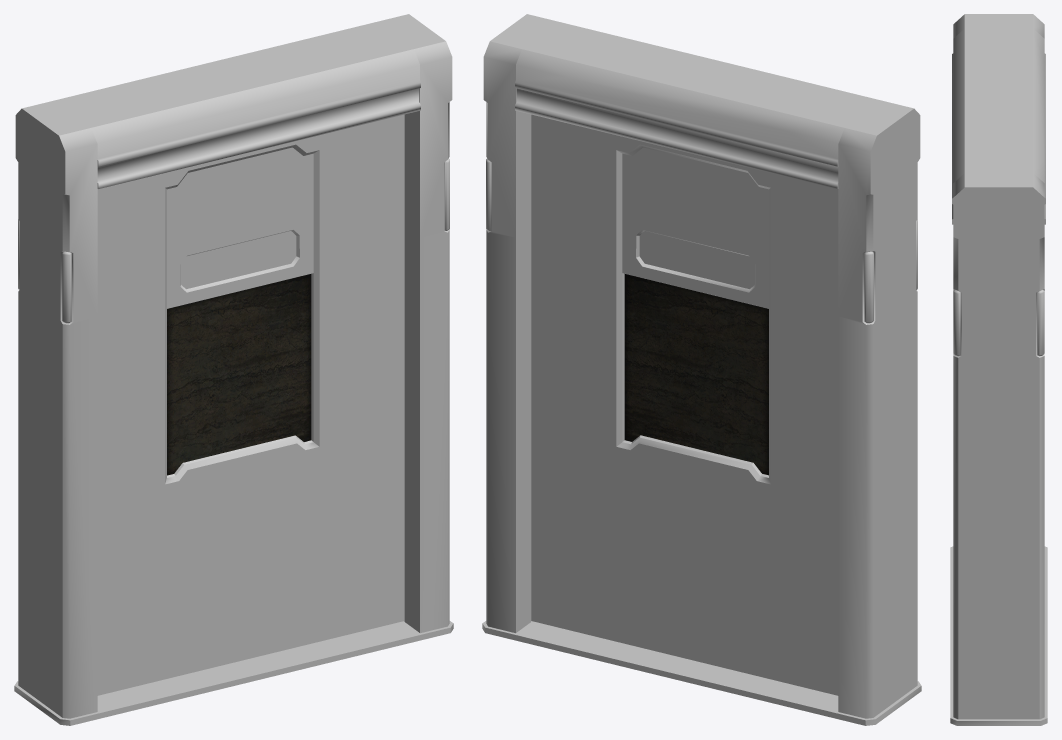
The model's file is slidedoor_theta_small_windowed_rusty.dae.
3 views of the same model, side by side, from view 1: azimuth 30°, elevation 25°; view 2: azimuth 150°, elevation 25°; view 3: azimuth 270°, elevation 25° (orthographic). The views are drawn at different scales.
Visible parts, largest first — view 1: door__2_, frame__2_, window; view 2: door__2_, frame__2_, window; view 3: frame__2_.
Part boxes in pixels (<box>): door__2_: <box>97,114,404,695</box>; frame__2_: <box>14,14,453,725</box>; window: <box>167,274,311,475</box>; door__2_: <box>531,114,838,695</box>; frame__2_: <box>482,14,921,725</box>; window: <box>624,274,768,475</box>; frame__2_: <box>950,14,1047,725</box>.
Bounding box in the file's own units: 2.28 × 3.25 × 0.5349.
